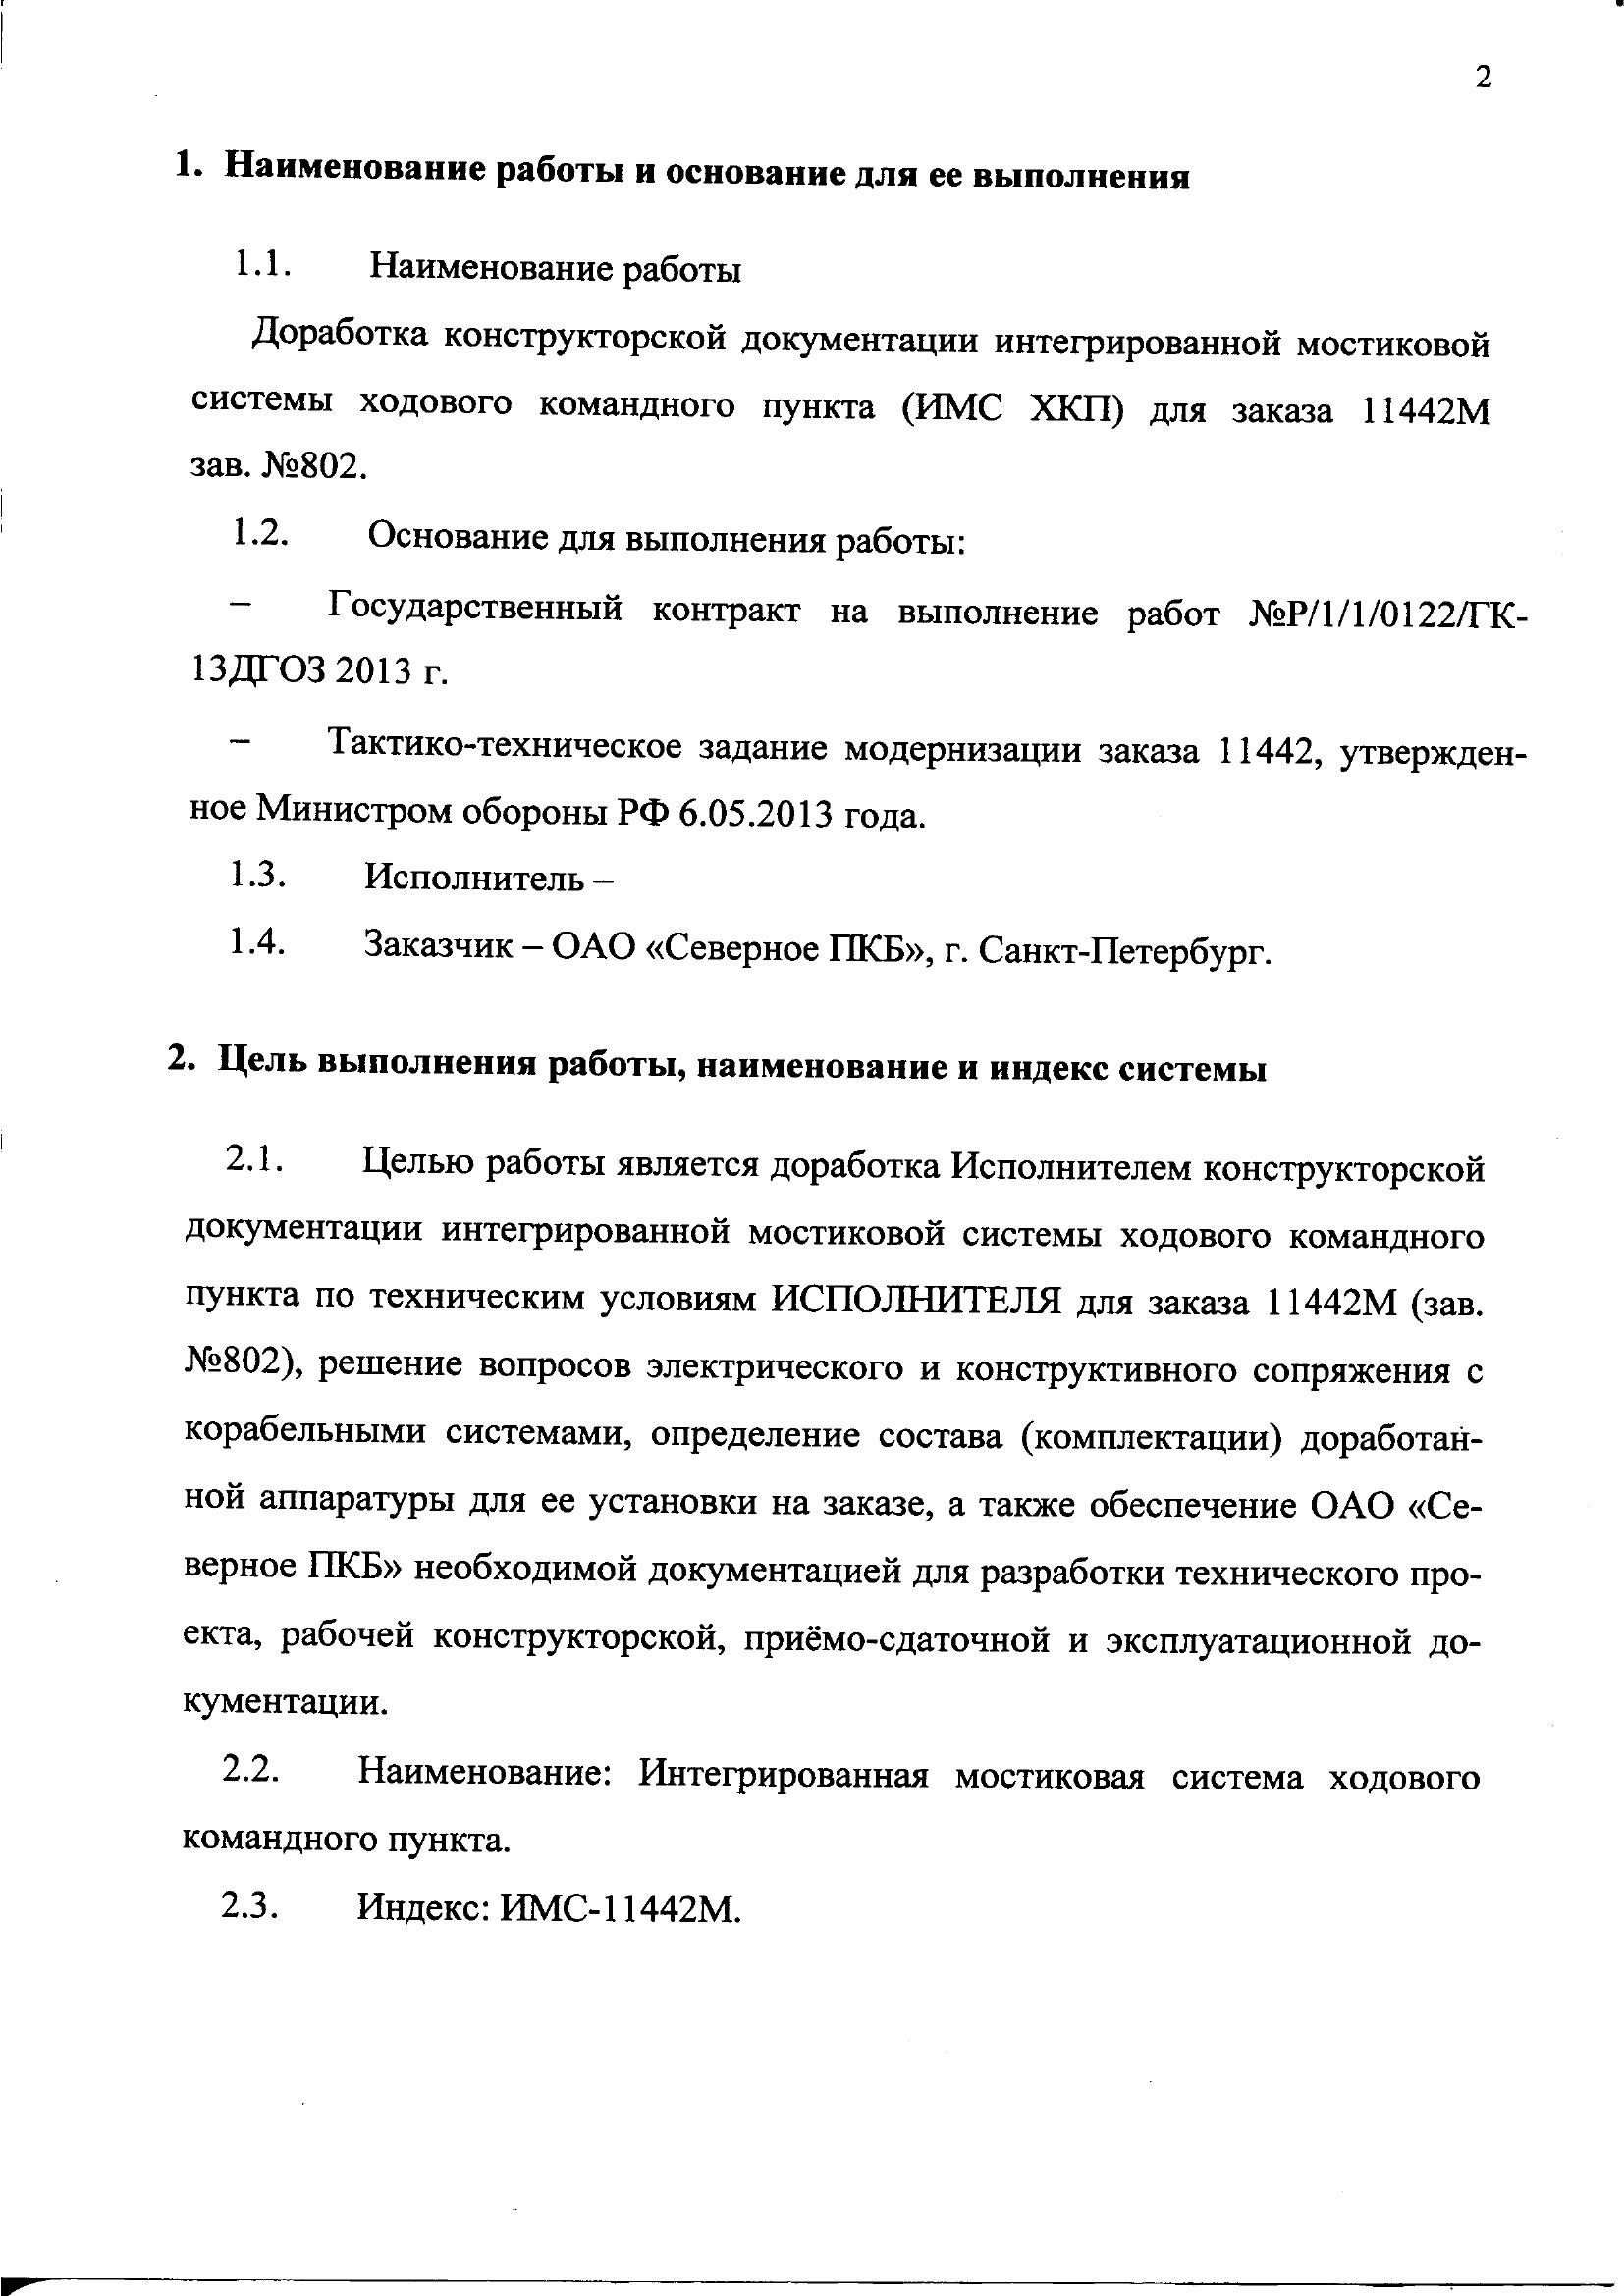header: (148, 128, 1244, 223), (144, 1015, 1294, 1100)
list: (216, 708, 1545, 780), (199, 1128, 1494, 1193), (216, 583, 1543, 643), (206, 1741, 1497, 1799), (221, 915, 1278, 982), (218, 504, 986, 571), (211, 1881, 758, 1941), (218, 237, 765, 295), (221, 847, 634, 903)
text: (165, 1205, 1517, 1725), (163, 302, 1513, 490), (179, 791, 932, 833), (165, 1815, 520, 1873), (178, 645, 462, 699), (1461, 47, 1513, 104)
